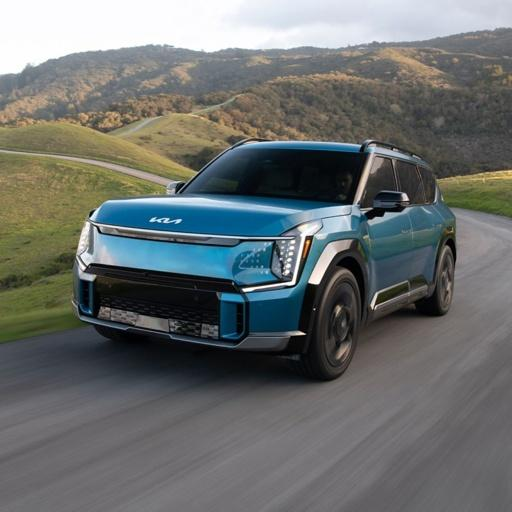suv: (73, 138, 454, 378)
